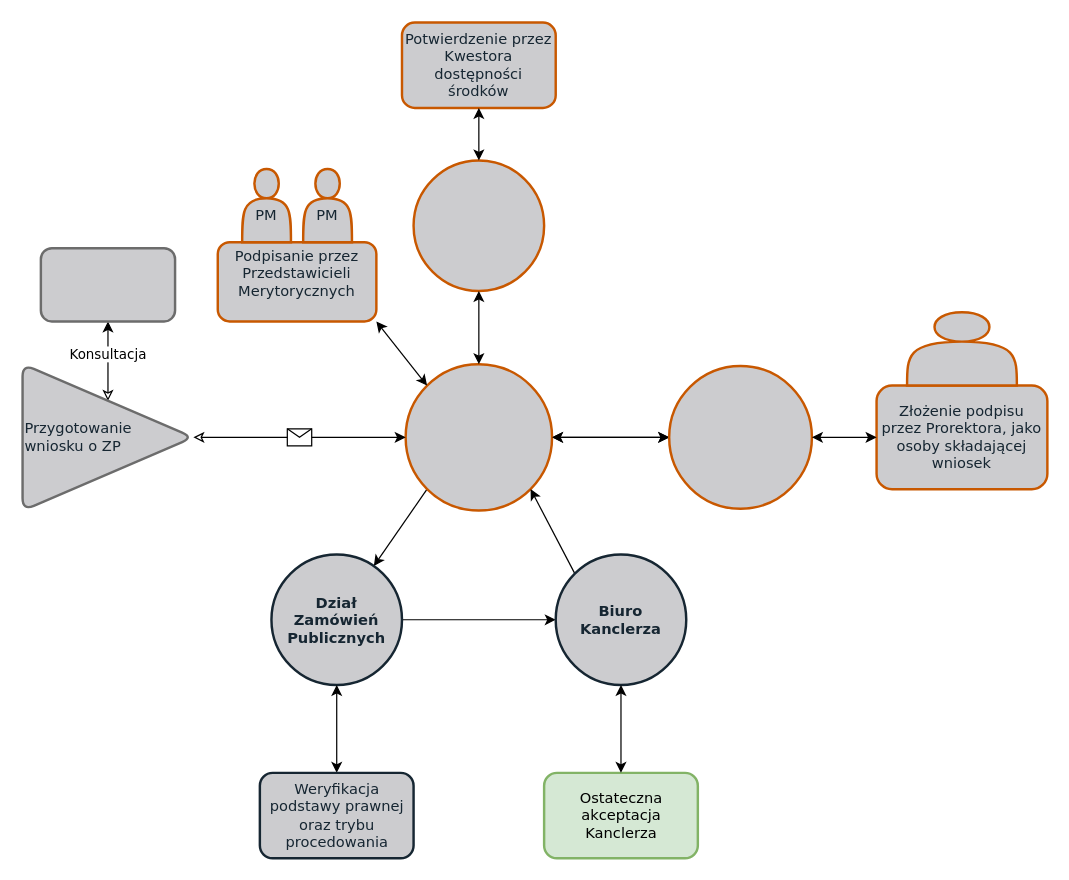
The diagram is 1069 pixels wide and 880 high, and some of its shapes have lost their labels. Here are the shapes that lost their labels. From the top down, the centre of each, then its label:
At pixel 478 225: "Biuro Spraw Studenckich".
At pixel 107 284: "Pan Brzuska".
At pixel 961 348: "Prorektor".
At pixel 478 436: "Biuro SSPW".
At pixel 740 436: "Biuro Prorektora ds.Studenckich".
